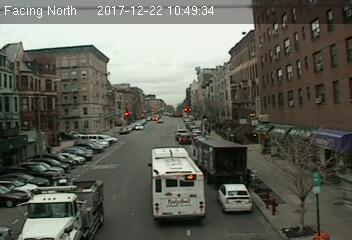bus: (146, 147, 205, 221)
car: (217, 183, 252, 213), (178, 132, 192, 145)
